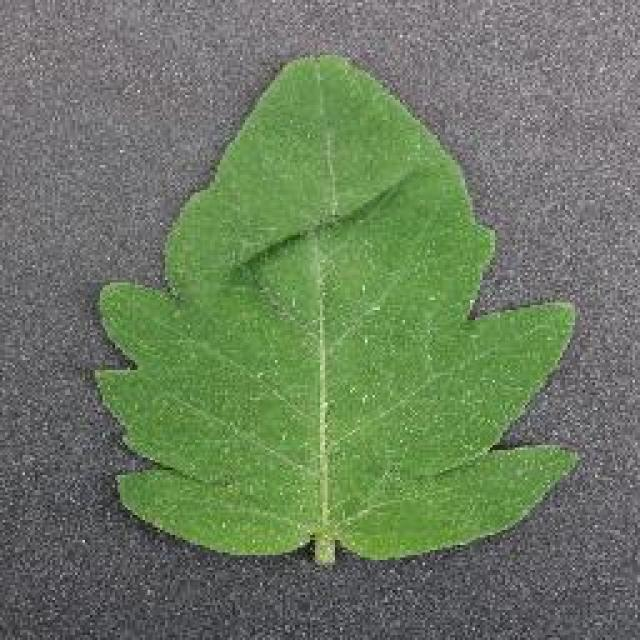Tomato_Healthy: (82, 41, 592, 580)
